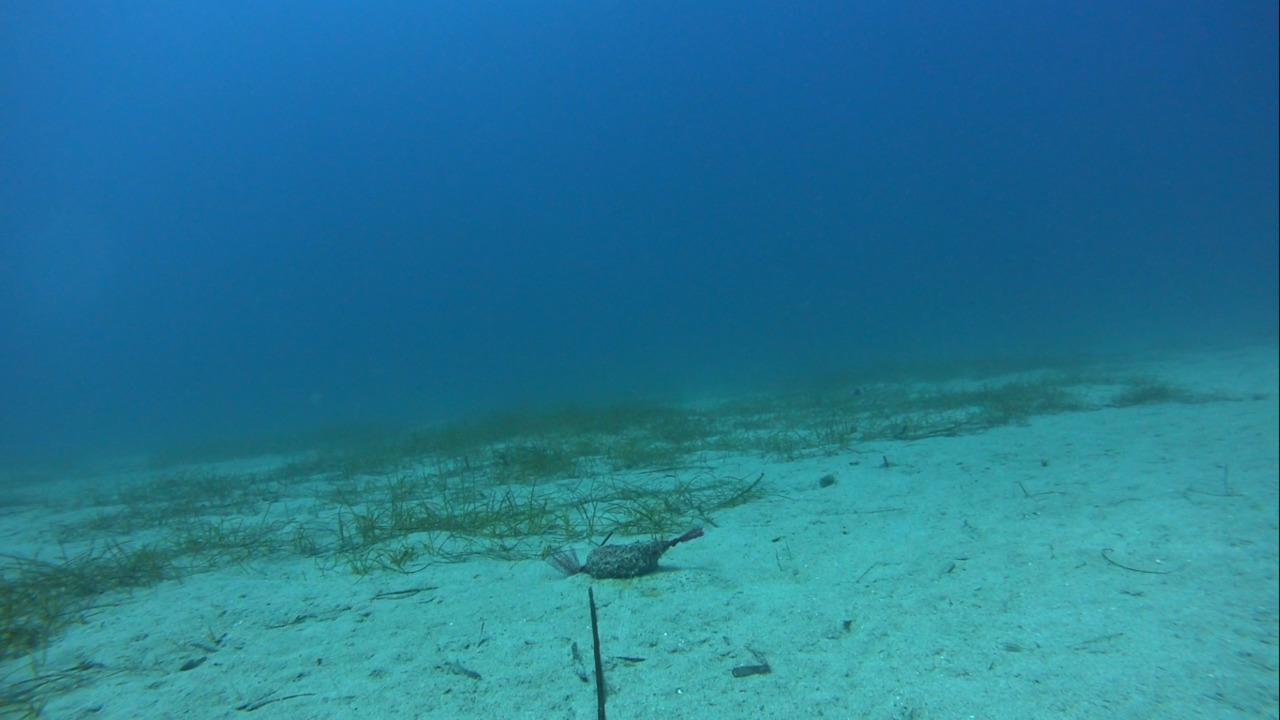dactylopterus: (843, 372, 906, 404)
